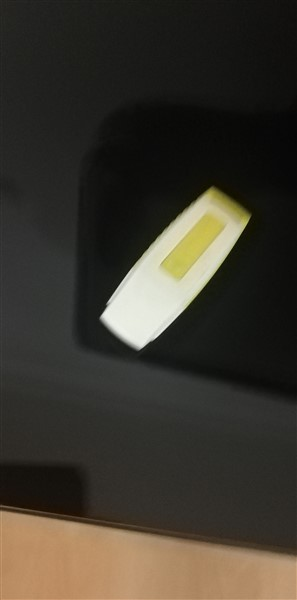flash disk: (100, 183, 255, 365)
